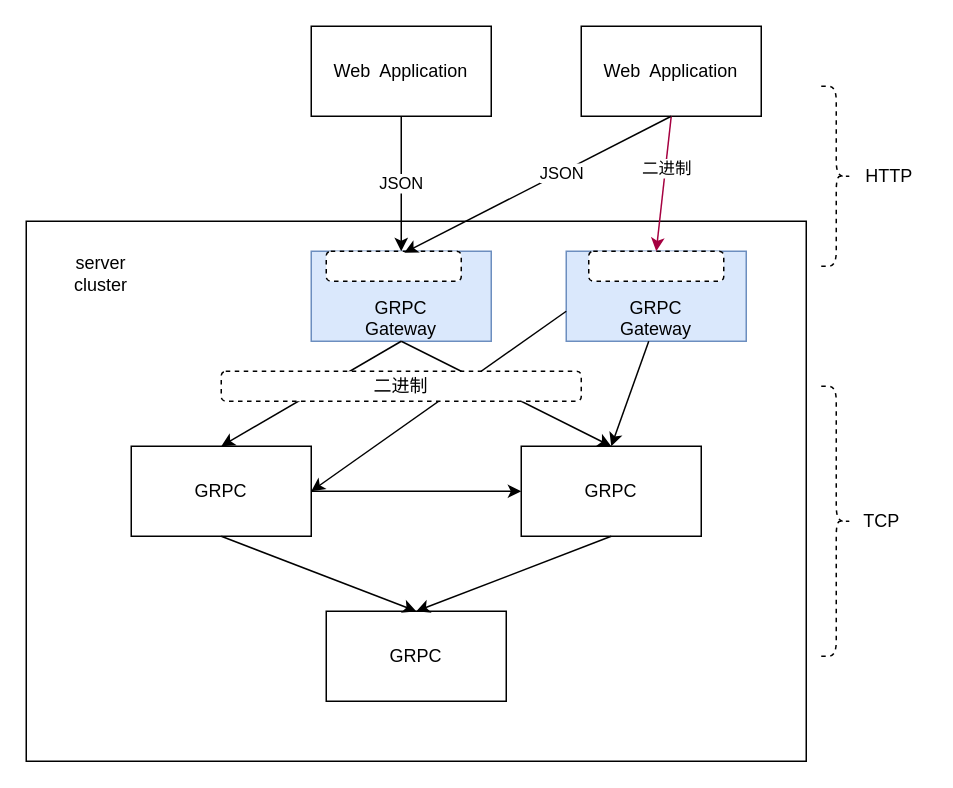
Some shapes in this 953 by 788 pixel diagram are drawn without their labels. The centre of each missing label's shape, as x and y in pixels:
REST API: the point at 393,265
RPC: the point at 655,265
